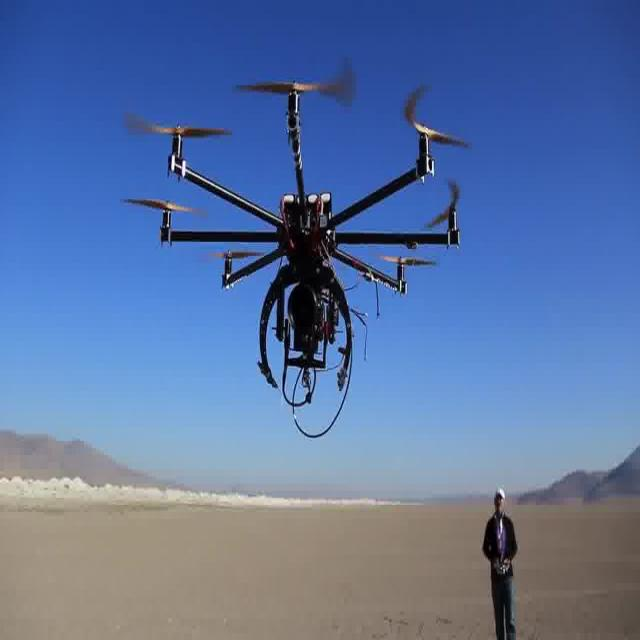Drone_FW: (120, 65, 472, 438)
